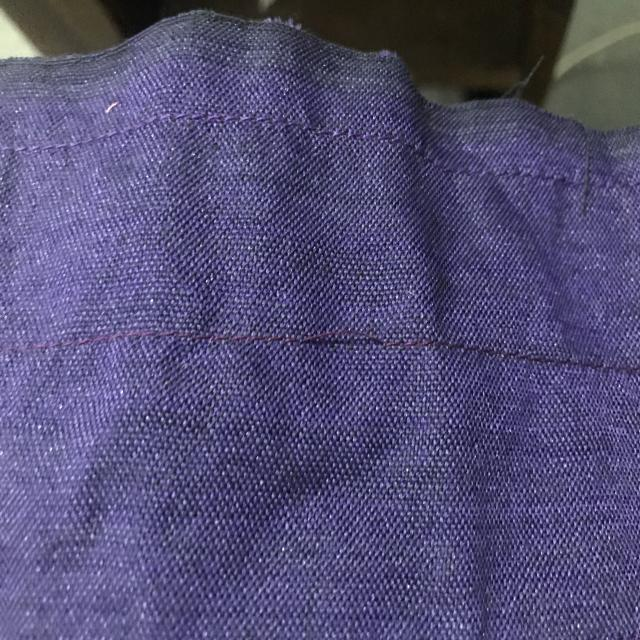skip: (281, 312, 394, 362)
